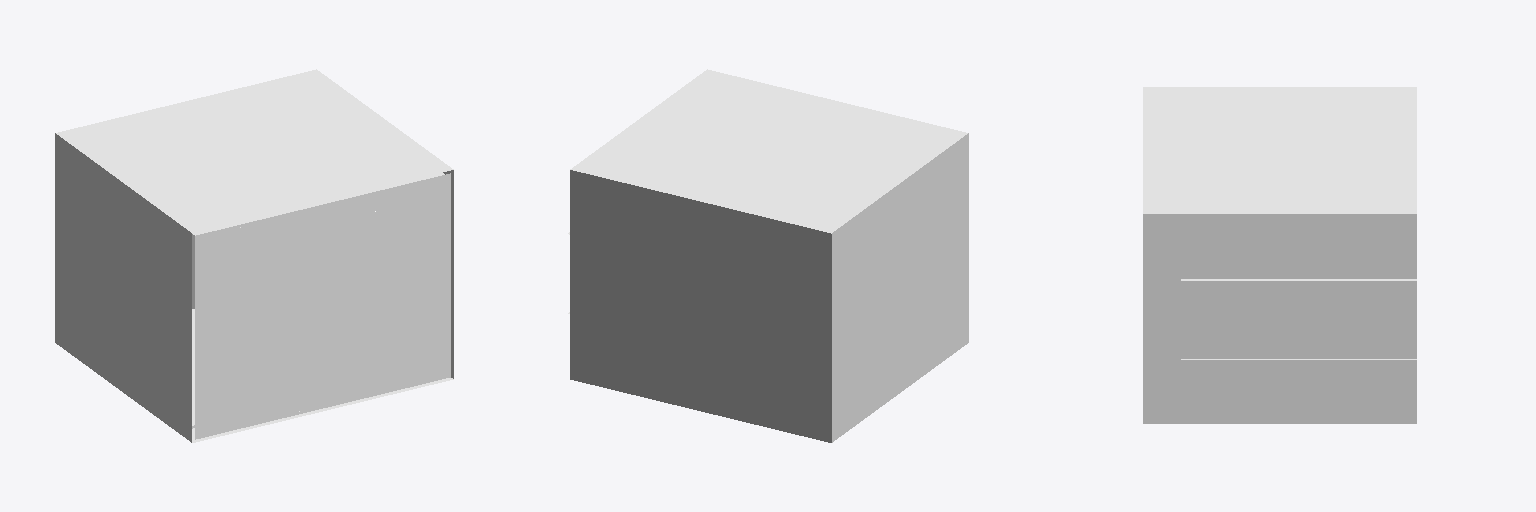
The model's file is testChamber_sanstable.obj.
3 renders of one model, left to right at view 1: azimuth 30°, elevation 25°; view 2: azimuth 150°, elevation 25°; view 3: azimuth 270°, elevation 25°, orthographic.
Parts seen in each view (by area): view 1: refPlafond, paroix1, paroiy0, caissonx1, caissony0, caissonx0, caissony1; view 2: dallage, paroix1, paroiy0, caissonx1, caissony0; view 3: paroiy1, paroix1, caissony1, caissonx1.
Boxes of the visible parts, x1=… form: refPlafond: x1=195, y1=173, x2=450, y2=439; paroix1: x1=56, y1=69, x2=439, y2=223; paroiy0: x1=55, y1=133, x2=178, y2=432; caissonx1: x1=180, y1=160, x2=453, y2=233; caissony0: x1=179, y1=224, x2=191, y2=442; caissonx0: x1=192, y1=378, x2=453, y2=442; caissony1: x1=443, y1=170, x2=453, y2=378; dallage: x1=570, y1=170, x2=831, y2=442; paroix1: x1=570, y1=79, x2=954, y2=233; paroiy0: x1=832, y1=144, x2=954, y2=442; caissonx1: x1=695, y1=69, x2=967, y2=142; caissony0: x1=955, y1=133, x2=968, y2=352; paroiy1: x1=1169, y1=214, x2=1416, y2=423; paroix1: x1=1169, y1=87, x2=1416, y2=213; caissony1: x1=1143, y1=214, x2=1168, y2=423; caissonx1: x1=1143, y1=87, x2=1168, y2=213.
Size of the model in its own units: 2425 by 1840 by 2180.